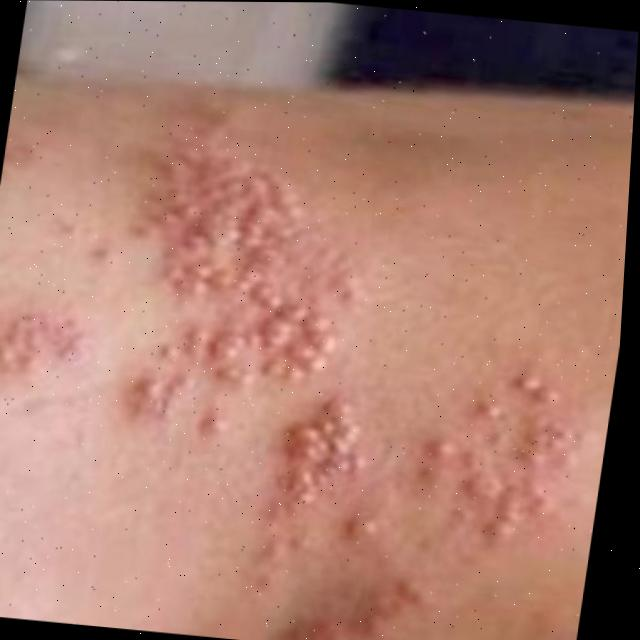Shingles: (101, 96, 422, 535), (408, 361, 584, 564), (281, 566, 425, 640), (0, 301, 89, 390)
